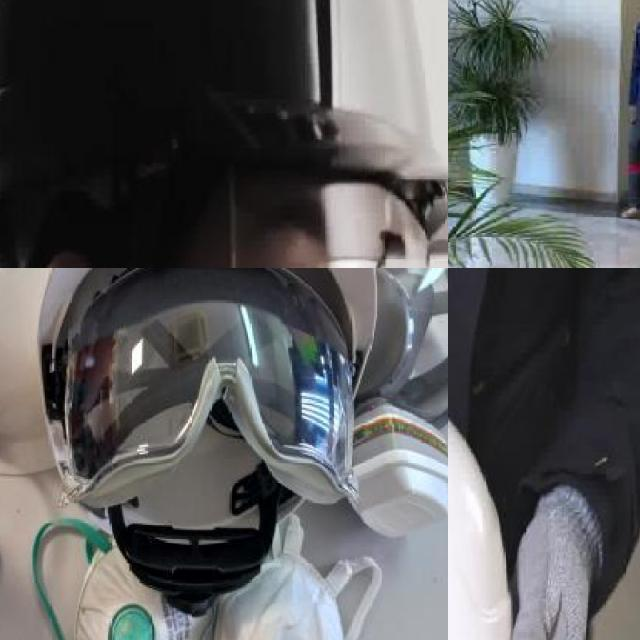apron: (513, 484, 602, 640)
